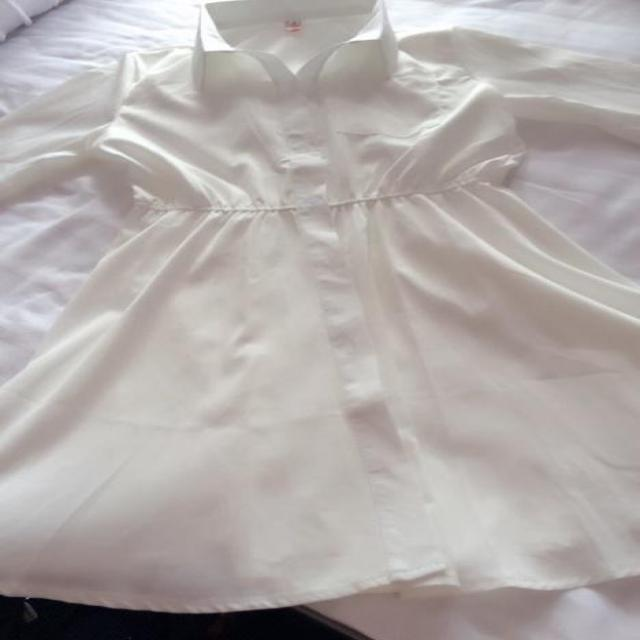short-sleeve-dress: (31, 31, 637, 615)
